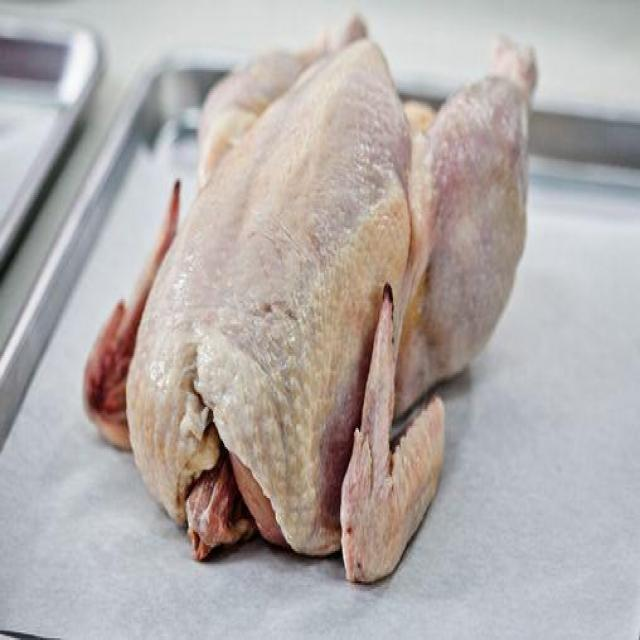Chicken: (83, 17, 539, 584)
